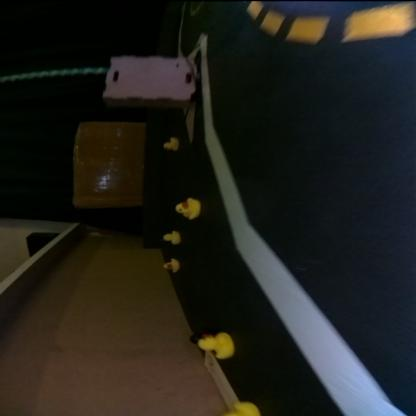Duckie: (196, 332, 232, 358), (175, 198, 200, 220), (162, 230, 180, 244), (162, 258, 178, 272), (162, 136, 178, 150)
